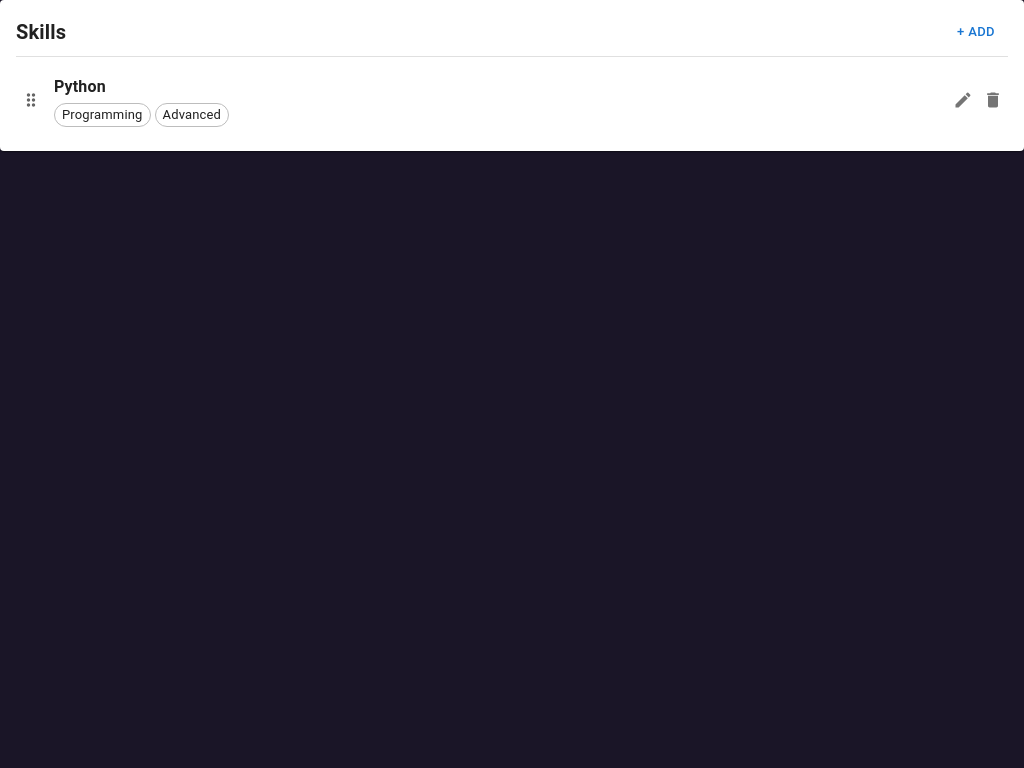
Scenario: SkillsSection › opens edit dialog pre-filled with existing entry
Click the button named "edit skill".
click(963, 100)  # box [948,85,978,115]
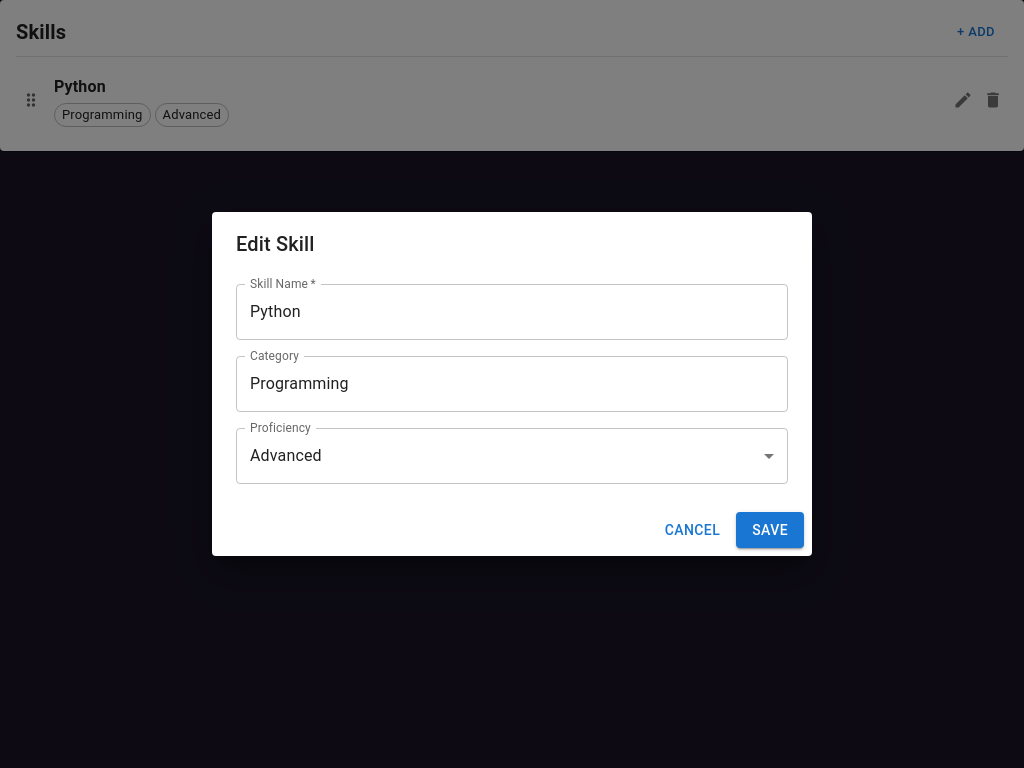
Expected: the heading "Edit Skill" is shown, [236,232,315,256]
Expected: the field showing "Python" is shown, [236,284,788,340]
